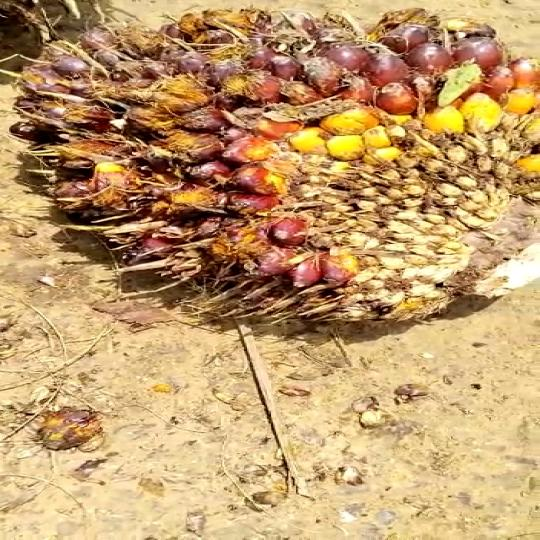kurang masak: (0, 0, 540, 327)
